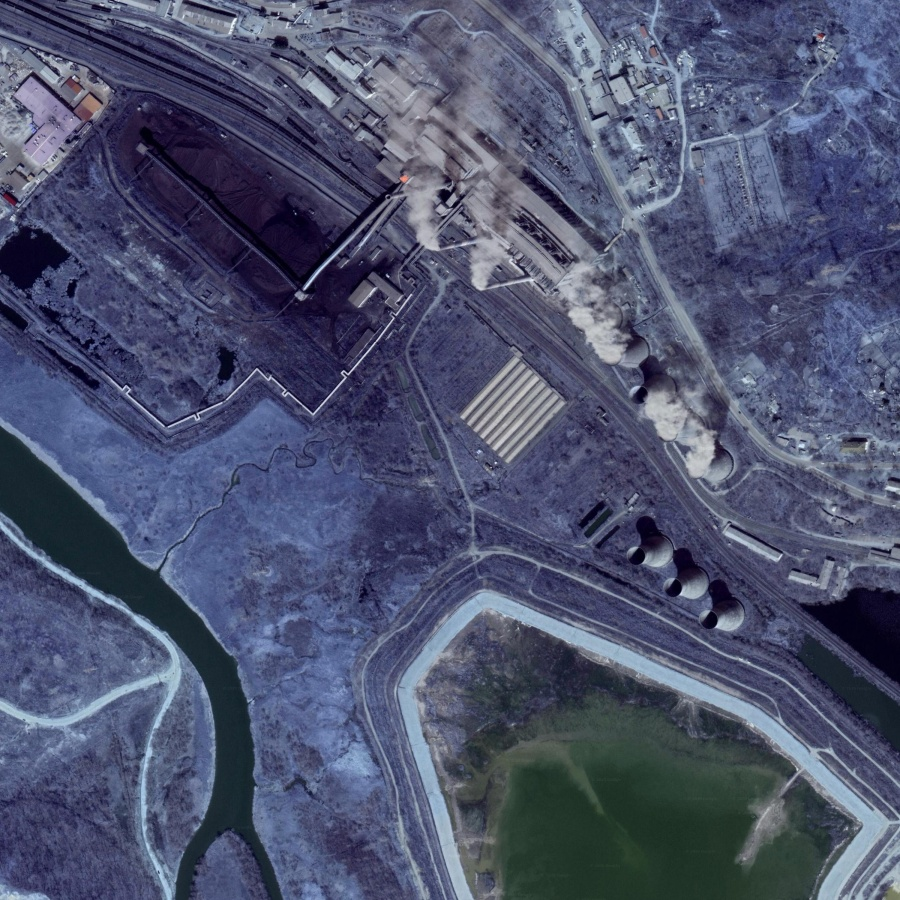PowerPlant: (112, 49, 553, 342), (565, 271, 779, 644)
